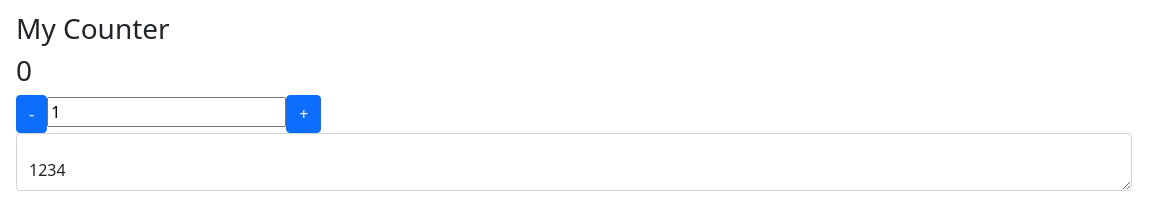
Scenario: Changing value and then click add button, it should be correctly
The width and height of the screenshot is (1149, 208).
Expected: the heading with test id "counter" reads "0", [16, 51, 32, 89]
Replace the text in the field with test id "input" with "5" at (167, 112), box [47, 98, 286, 128]
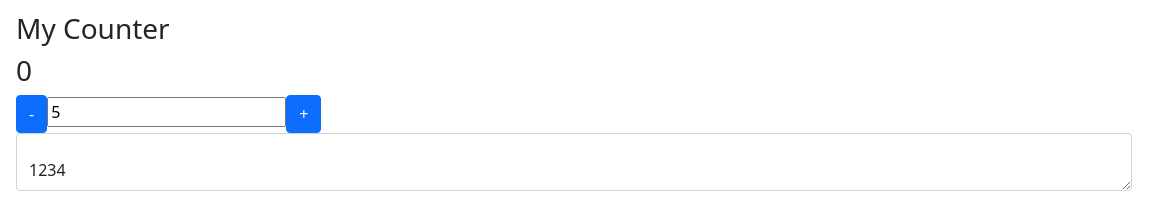
Click the button with test id "addBtn" at (304, 114), box [286, 95, 321, 133]
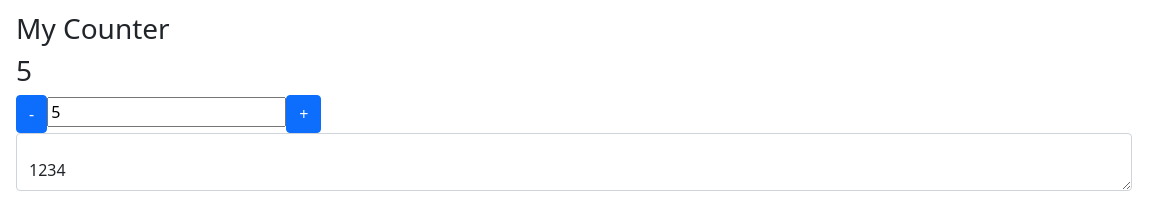
Expected: the heading with test id "counter" reads "5", [16, 51, 32, 89]
